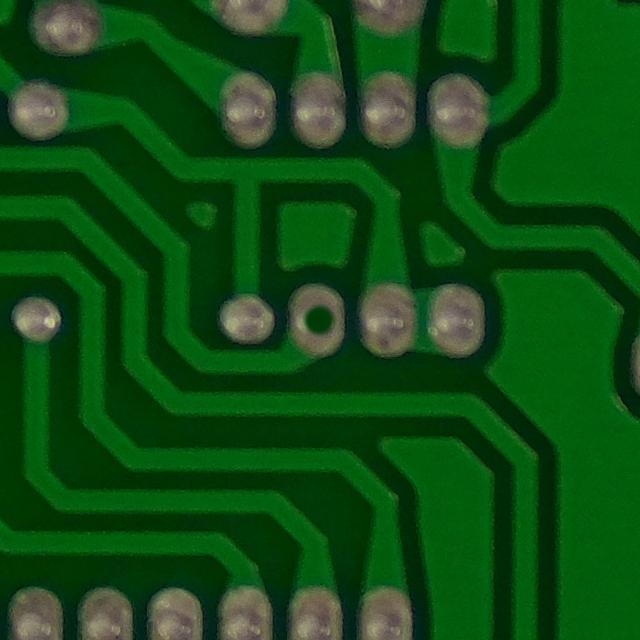missing_hole: (282, 277, 359, 364)
